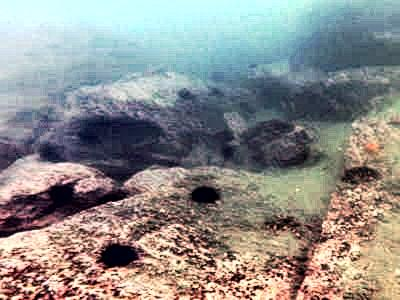urchin: (97, 242, 135, 266), (191, 185, 219, 203), (50, 184, 71, 199)
